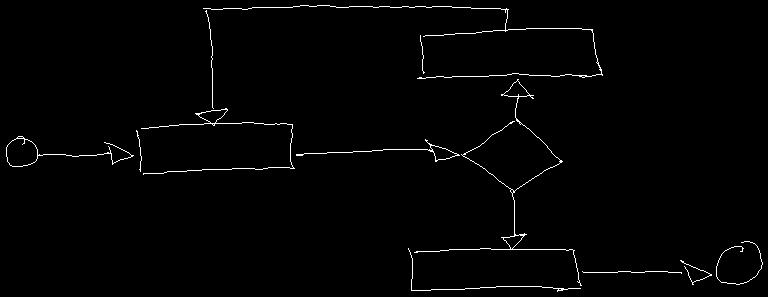arrow: (195, 5, 508, 125), (296, 139, 459, 161), (582, 260, 711, 284), (38, 142, 133, 164), (501, 190, 526, 249), (501, 79, 533, 121)
connection: (716, 241, 762, 284), (6, 136, 37, 166)
decision: (461, 118, 562, 192)
process: (417, 28, 602, 78), (136, 122, 294, 174), (408, 248, 581, 291)
